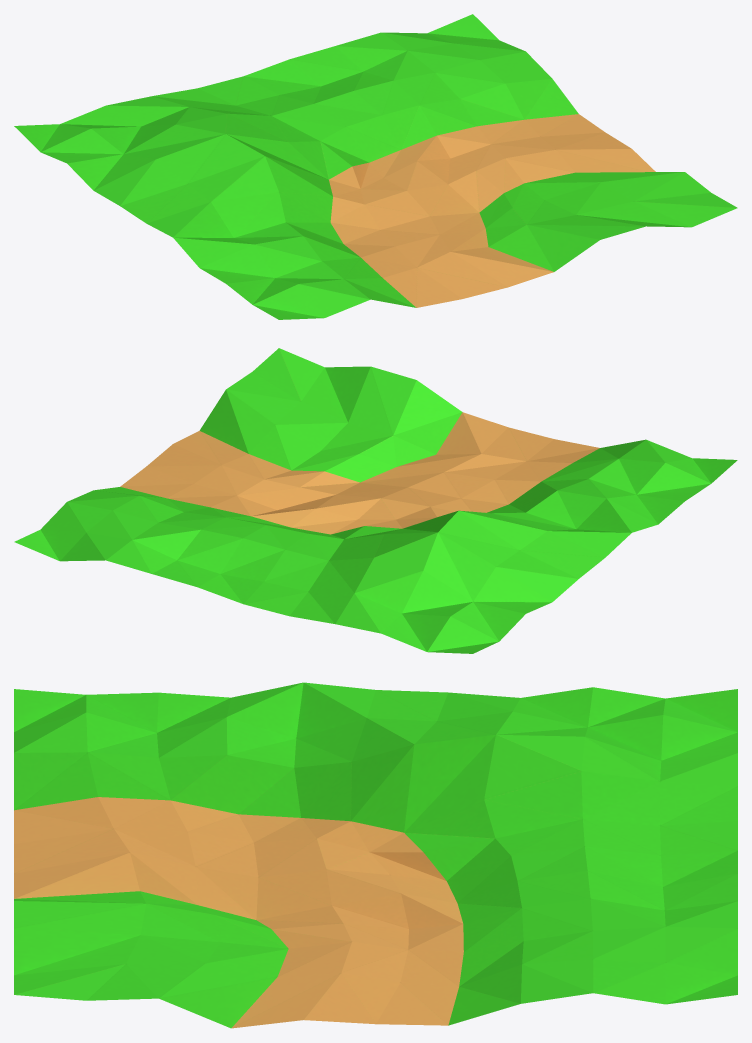
Rendered from road0110.glb.
3 views of the same model, one above another, from view 1: azimuth 30°, elevation 25°; view 2: azimuth 150°, elevation 25°; view 3: azimuth 270°, elevation 25° (orthographic). The views are drawn at different scales.
Visible parts, largest first — view 1: Plain_Right.001; view 2: Plain_Right.001; view 3: Plain_Right.001.
Part boxes in pixels (left/top/right/bottom): Plain_Right.001: left=14, top=14, right=737, bottom=319; Plain_Right.001: left=14, top=348, right=737, bottom=653; Plain_Right.001: left=14, top=682, right=737, bottom=1028.
Bounding box in the file's own units: 10 × 1.14 × 10.
Materials: 2 (2 with a texture image).
